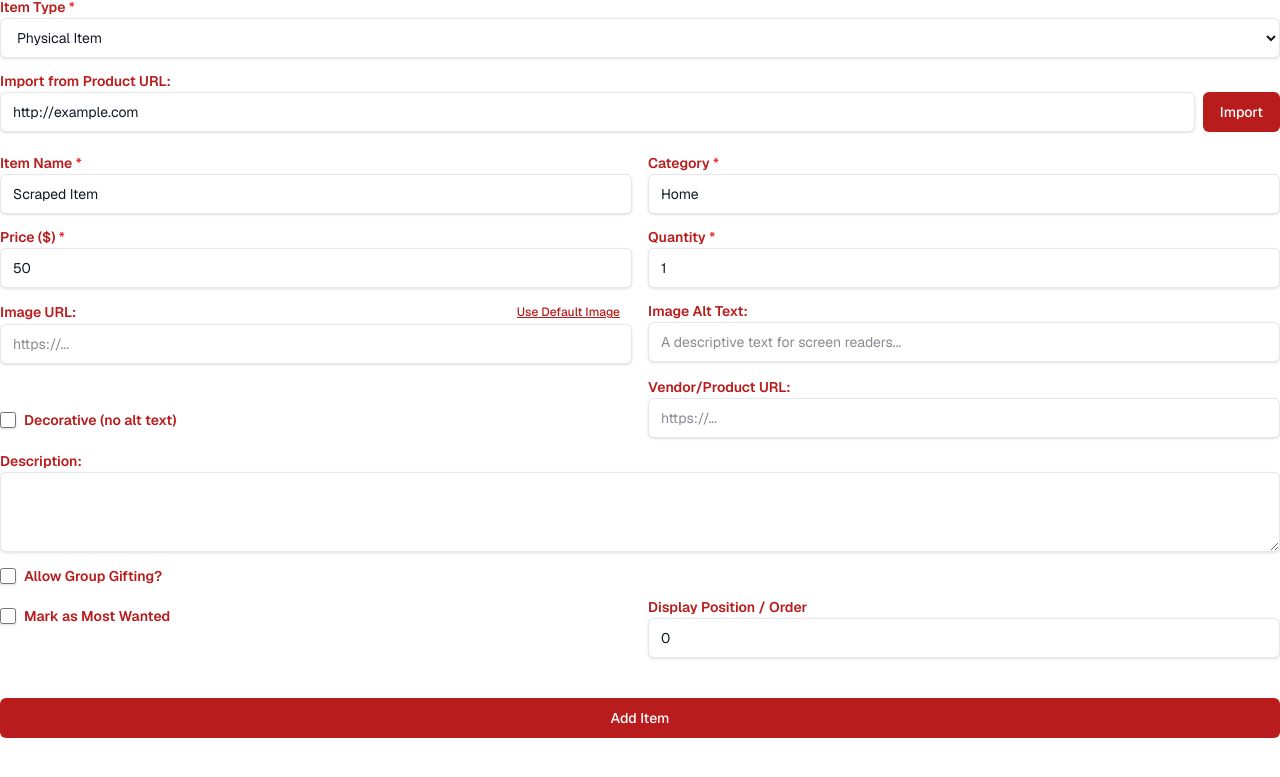
Test: RegistryItemForm › shows error message when scraping fails
Replace the text in the field labelled "Import from Product URL:" with "bad url" at (597, 112), box [0,92,1195,132]
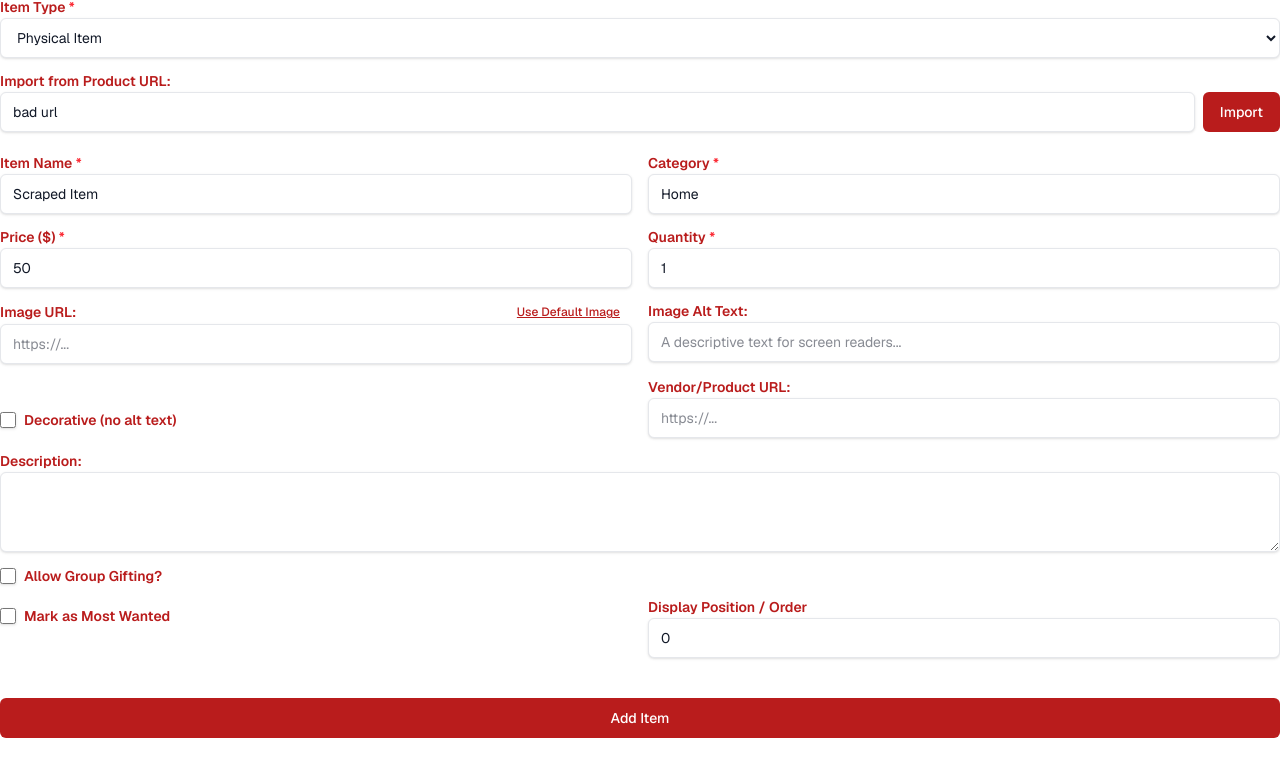
Click the button "Import".
click(1241, 112)  # box [1203,92,1279,132]
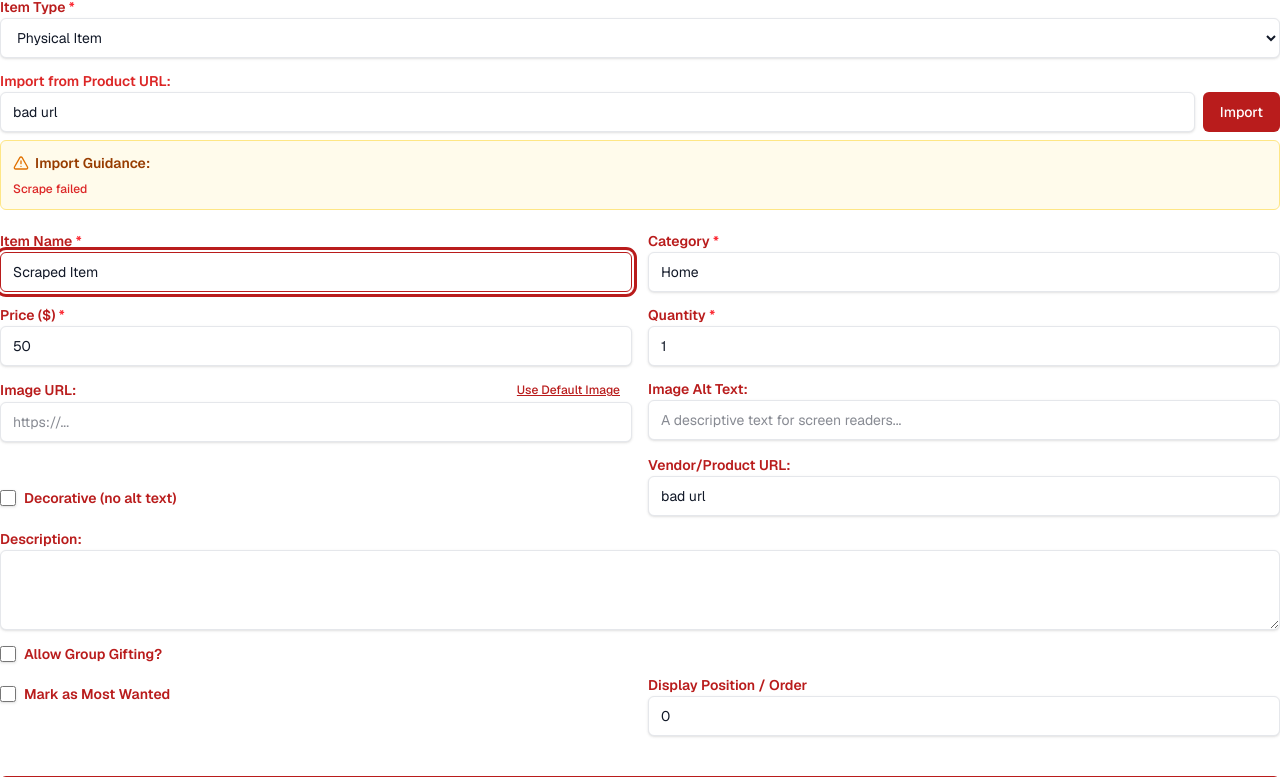
Now the text "Scrape failed" is shown, box [13,181,87,197]
